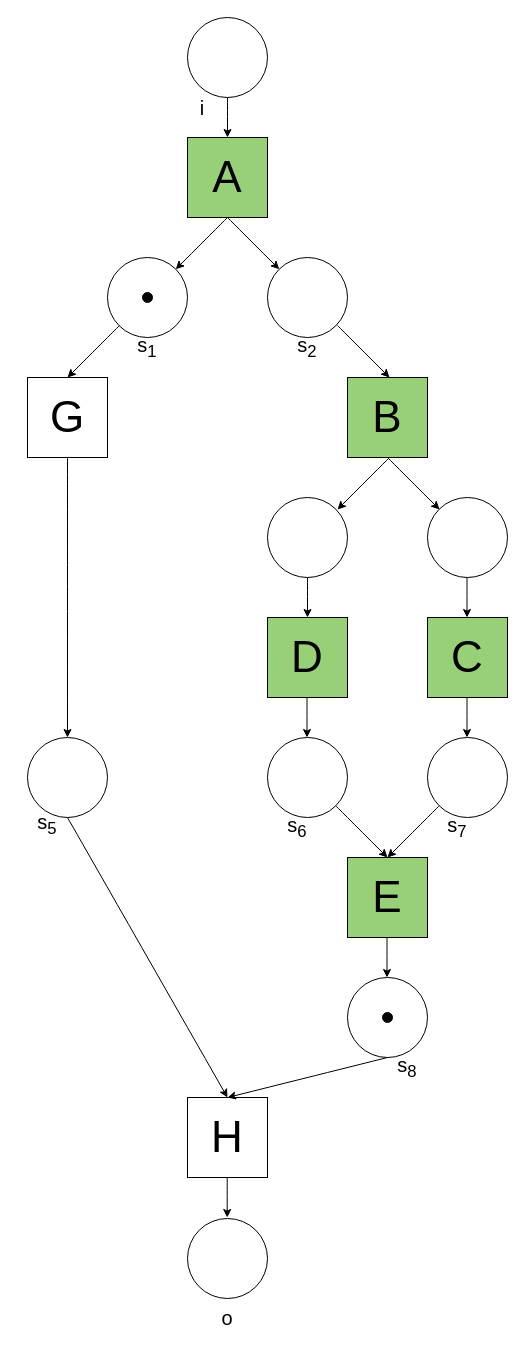
This 525x1355 diagram has some shape labels left out. The centre of each missing label's shape, as x and y in pixels:
"s 3" goes at pixel 307 537.
"s 4" goes at pixel 467 537.
